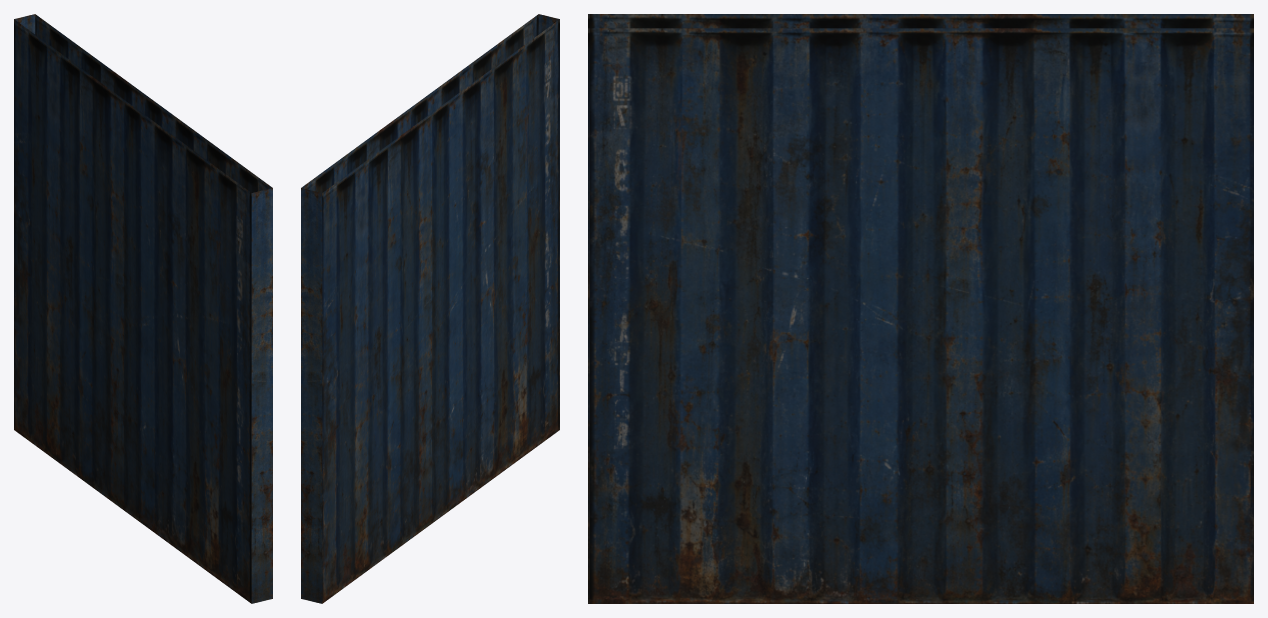
File: ContainerPanel.fbx
The picture shows the model from 3 angles, left to right: view 1: azimuth 30°, elevation 25°; view 2: azimuth 150°, elevation 25°; view 3: azimuth 270°, elevation 25°; orthographic projection. The views are drawn at different scales.
Parts seen in each view (by area): view 1: ConstructionPanels; view 2: ConstructionPanels; view 3: ConstructionPanels.
Boxes of the visible parts, left/top/right/bottom form: ConstructionPanels: left=14, top=14, right=272, bottom=603; ConstructionPanels: left=301, top=14, right=559, bottom=603; ConstructionPanels: left=588, top=14, right=1253, bottom=603.
Size of the model in its own units: 0.0502 by 0.9303 by 0.9754.
1 material, 1 textured.
